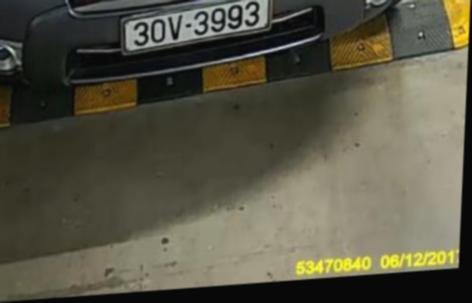License_Plate: (112, 0, 279, 58)
